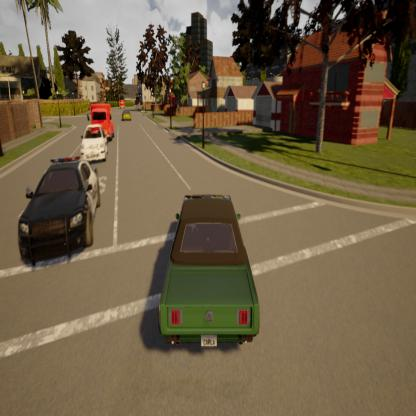Cars: (153, 184, 269, 368), (14, 157, 108, 268), (77, 121, 111, 165), (86, 101, 116, 145), (119, 107, 134, 124)
